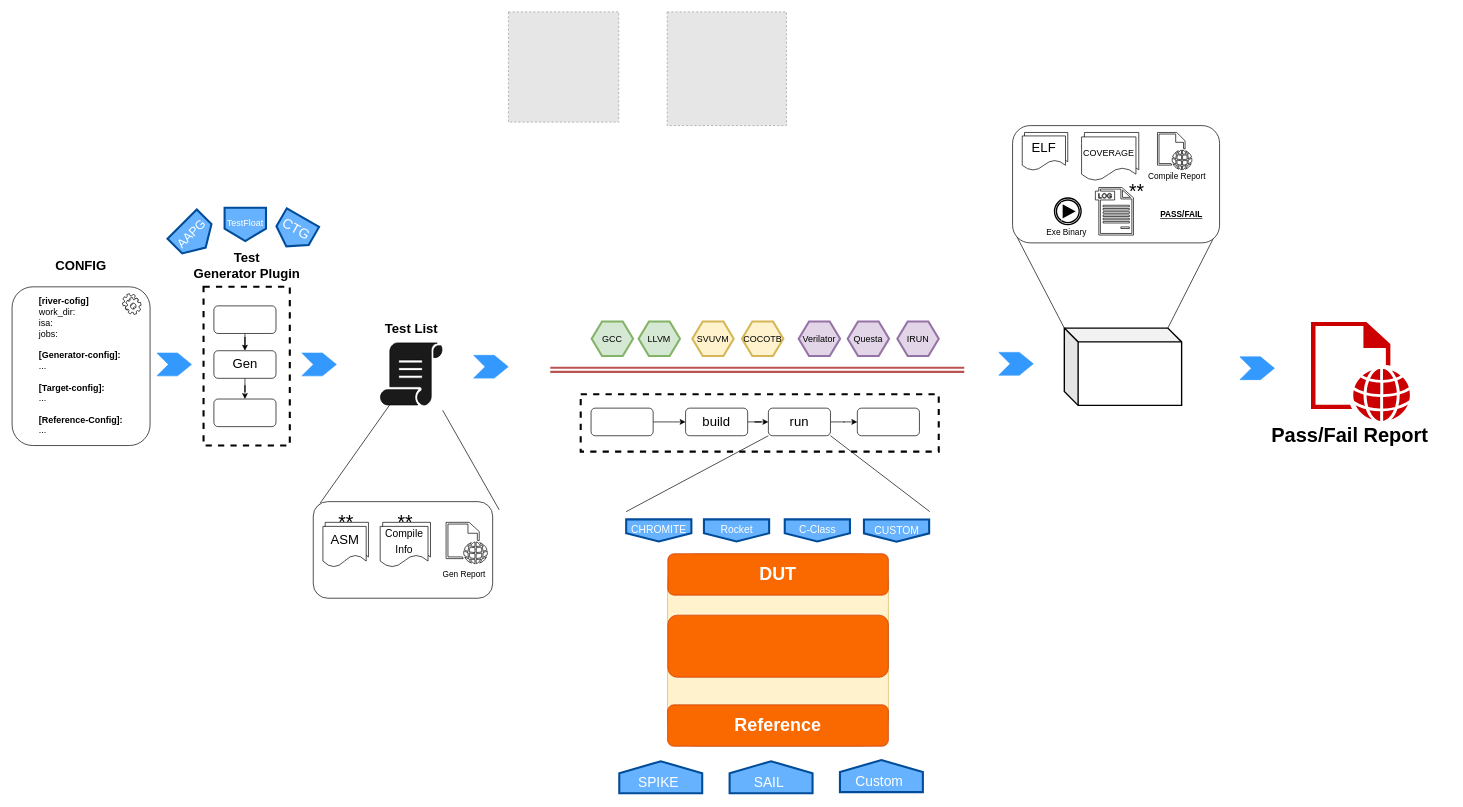
The diagram is 1463 pixels wide and 807 high, and some of its shapes have lost their labels. Grey dashed boxes stand in for pictures. Each missing label, with the centre of its shape:
Coverage & Execution Collaterals: the point at 1122,366
init: the point at 621,421
Post-Gen: the point at 244,412
post_run: the point at 888,421
Pre-gen: the point at 244,319
Synchronize, Step and Compare: the point at 777,645
